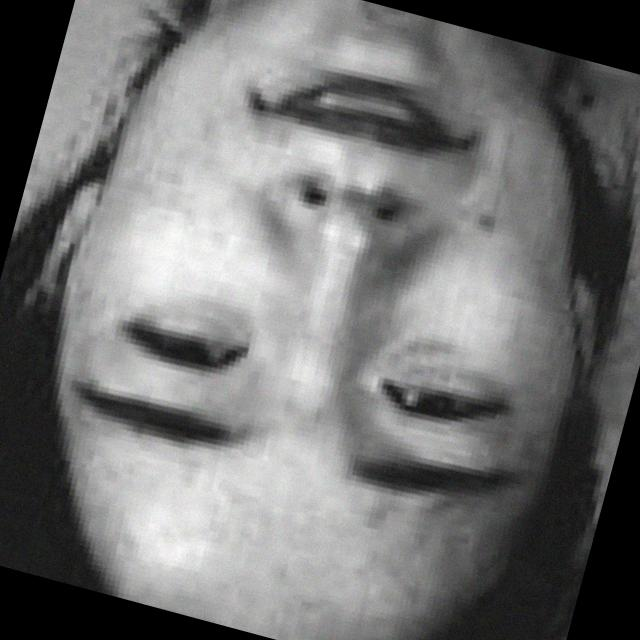sad: (15, 0, 640, 615)
